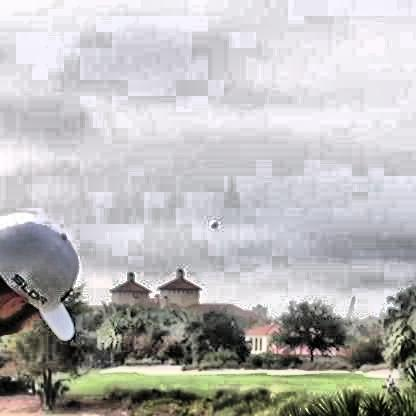golfball: (207, 218, 215, 226)
